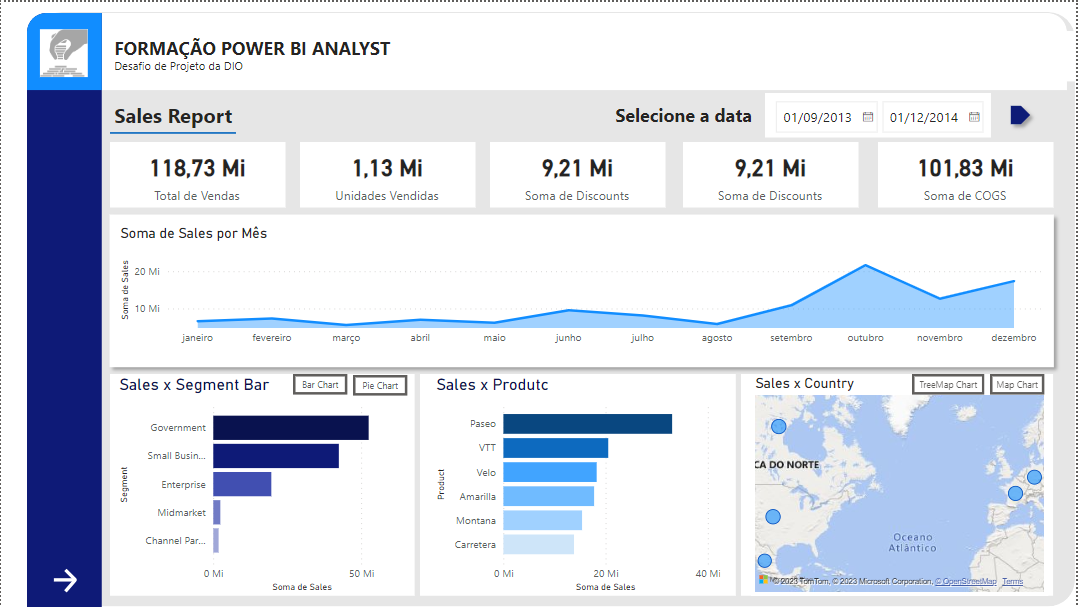

The page's visual inventory and layout, read from the dashboard file:
{"tool":"powerbi","page":{"name":"Página 1","canvas":[1280,720],"ordinal":0},"visuals":[{"type":"shape","box":[42.2,11.8,1238.2,707.8],"z":0},{"type":"slicer","fields":{"Values":["financials.Date"]},"box":[910.4,108,268.8,52.8],"z":0,"group":"g3"},{"type":"shape","box":[131.2,145.4,149.9,21.3],"z":0,"group":"g4"},{"type":"card","fields":{"Values":["Sum(financials. Sales)"]},"box":[136.3,169.2,197.7,74],"z":0,"group":"g5"},{"type":"textbox","box":[131.2,113.5,299.7,42.6],"z":1000,"group":"g4"},{"type":"shape","box":[131.2,166.7,209,78.1],"z":1000},{"type":"card","fields":{"Values":["Sum(financials.Units Sold)"]},"box":[362.4,169.3,197.7,74],"z":1000,"group":"g5"},{"type":"shape","box":[1193.6,114.4,41.7,40.5],"z":1500,"group":"g3"},{"type":"shape","box":[32.1,12.6,89.4,707.5],"z":2000},{"type":"textbox","box":[727.5,113.7,181.4,49],"z":2000,"group":"g3"},{"type":"card","fields":{"Values":["Sum(financials.Discounts)"]},"box":[589.2,168.8,197.8,74.2],"z":2000,"group":"g5"},{"type":"clusteredBarChart","title":" Sales x Segment Bar","fields":{"Y":["Sum(financials. Sales)"],"Category":["financials.Segment"]},"box":[136.6,444,348.4,263.4],"z":2000,"group":"g2"},{"type":"map","title":"Sales x Country","fields":{"Category":["financials.Country"],"Size":["Sum(financials. Sales)"]},"box":[894.6,444,353.8,263.4],"z":2000,"group":"g1"},{"type":"actionButton","box":[1184.1,105.6,58.3,58.3],"z":2500,"group":"g3"},{"type":"shape","box":[356.7,166.7,209,78.1],"z":3000},{"type":"card","fields":{"Values":["Sum(financials.Discounts)"]},"box":[818.3,168.8,197.8,74.2],"z":3000,"group":"g5"},{"type":"actionButton","title":"Botão - pie","box":[419.6,444.1,64.7,24.5],"z":3250,"group":"g2"},{"type":"actionButton","title":"Botão - bar","box":[348,443.1,64.7,24.5],"z":3500,"group":"g2"},{"type":"shape","box":[32.1,12.6,89.4,92.3],"z":4000},{"type":"card","fields":{"Values":["Sum(financials.COGS)"]},"box":[1050.5,168.8,197.8,74.2],"z":4000,"group":"g5"},{"type":"actionButton","title":"Botão - Treemap","box":[1179.4,443.1,64.7,24.5],"z":4500,"group":"g1"},{"type":"shape","box":[583.2,166.7,209,78.1],"z":5000},{"type":"actionButton","title":"Botão - map","box":[1086.2,443.1,86.3,24.5],"z":5000,"group":"g1"},{"type":"image","box":[35,27.2,82.6,67.1],"z":6000},{"type":"shape","box":[121.5,12.6,1148.8,92.3],"z":7000},{"type":"shape","box":[812.5,166.7,209,78.1],"z":8000},{"type":"textbox","box":[131.2,34,1148.8,60.3],"z":9000},{"type":"shape","box":[1044.8,166.7,209,78.1],"z":10000},{"type":"shape","box":[121.5,243.8,1142.1,199.5],"z":11000},{"type":"shape","box":[882.3,443.3,371.5,264.2],"z":12000},{"type":"shape","box":[500.1,443.3,376,264.2],"z":13000},{"type":"shape","box":[131.2,443.3,362.7,264.2],"z":14000},{"type":"areaChart","fields":{"Category":["financials.Date.Variation.Hierarquia de datas.Mês"],"Y":["Sum(financials. Sales)"]},"box":[138.3,265.1,1109.3,151.6],"z":15000},{"type":"clusteredBarChart","title":" Sales x Produtc","fields":{"Y":["Sum(financials. Sales)"],"Category":["financials.Product"]},"box":[514,444.1,348.4,263.4],"z":16000},{"type":"group","id":"g1","title":"Sales x País","box":[893.1,443.1,355.2,264.7],"z":17000},{"type":"group","id":"g2","title":"Sales Segmento","box":[135.3,443.1,349.7,264.7],"z":18000},{"type":"group","id":"g3","title":"Filtro","box":[727.5,105.6,514.9,58.3],"z":19000},{"type":"group","id":"g4","title":"Title Report","box":[131.2,113.5,299.7,53.2],"z":20000},{"type":"group","id":"g5","title":"Cartoes","box":[136.3,168.8,1112.1,74.5],"z":21000},{"type":"actionButton","box":[58.8,670.6,41.2,37.3],"z":22000}]}

Visuals, with their boxes on the page's 1280x720 design canvas (x1, y1, x2, y2). These are canvas units, not pixel positions in the 1078x607 screenshot, which may show the page scaled, cropped or inside an application window:
shape: locate(42, 12, 1280, 720)
slicer - financials.Date: locate(910, 108, 1179, 161)
shape: locate(131, 145, 281, 167)
card - Sum(financials. Sales): locate(136, 169, 334, 243)
textbox: locate(131, 114, 431, 156)
shape: locate(131, 167, 340, 245)
card - Sum(financials.Units Sold): locate(362, 169, 560, 243)
shape: locate(1194, 114, 1235, 155)
shape: locate(32, 13, 122, 720)
textbox: locate(728, 114, 909, 163)
card - Sum(financials.Discounts): locate(589, 169, 787, 243)
" Sales x Segment Bar" clusteredBarChart: locate(137, 444, 485, 707)
"Sales x Country" map: locate(895, 444, 1248, 707)
actionButton: locate(1184, 106, 1242, 164)
shape: locate(357, 167, 566, 245)
card - Sum(financials.Discounts): locate(818, 169, 1016, 243)
"Botão - pie" actionButton: locate(420, 444, 484, 469)
"Botão - bar" actionButton: locate(348, 443, 413, 468)
shape: locate(32, 13, 122, 105)
card - Sum(financials.COGS): locate(1050, 169, 1248, 243)
"Botão - Treemap" actionButton: locate(1179, 443, 1244, 468)
shape: locate(583, 167, 792, 245)
"Botão - map" actionButton: locate(1086, 443, 1172, 468)
image: locate(35, 27, 118, 94)
shape: locate(122, 13, 1270, 105)
shape: locate(812, 167, 1022, 245)
textbox: locate(131, 34, 1280, 94)
shape: locate(1045, 167, 1254, 245)
shape: locate(122, 244, 1264, 443)
shape: locate(882, 443, 1254, 708)
shape: locate(500, 443, 876, 708)
shape: locate(131, 443, 494, 708)
areaChart - financials.Date.Variation.Hierarquia de datas.Mês x Sum(financials. Sales): locate(138, 265, 1248, 417)
" Sales x Produtc" clusteredBarChart: locate(514, 444, 862, 708)
"Sales x País" group: locate(893, 443, 1248, 708)
"Sales Segmento" group: locate(135, 443, 485, 708)
"Filtro" group: locate(728, 106, 1242, 164)
"Title Report" group: locate(131, 114, 431, 167)
"Cartoes" group: locate(136, 169, 1248, 243)
actionButton: locate(59, 671, 100, 708)
